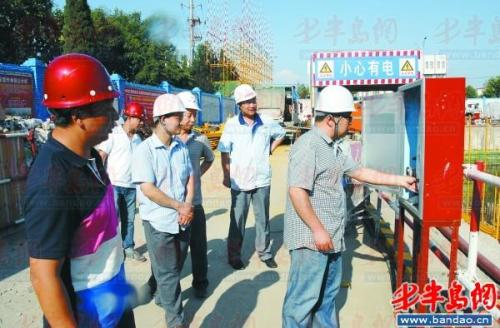boots: (124, 247, 147, 262), (192, 278, 209, 297), (228, 256, 244, 269), (262, 257, 278, 267)
hard-hat: (42, 53, 120, 110), (314, 84, 357, 112), (152, 92, 187, 117), (177, 90, 203, 111), (234, 83, 257, 103), (123, 100, 146, 119)
person: (281, 84, 418, 328), (22, 51, 143, 327), (130, 92, 196, 327), (217, 83, 287, 269), (94, 101, 148, 262), (174, 90, 215, 298)
